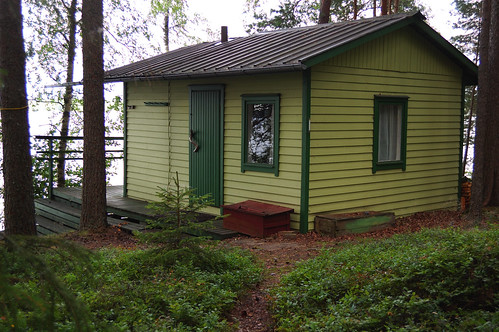building: (118, 12, 475, 231)
grass: (1, 233, 499, 332)
vegetation: (1, 1, 115, 332)
